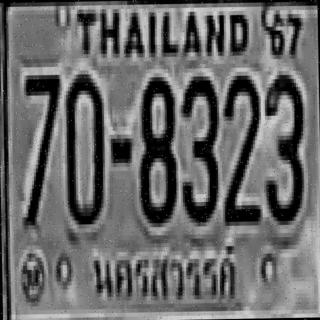N00: (63, 70, 104, 220)
N02: (220, 71, 260, 222)
N03: (262, 70, 302, 221), (178, 72, 219, 218)
N07: (22, 70, 59, 225)
N08: (136, 72, 174, 219)
P31: (88, 240, 248, 314)
